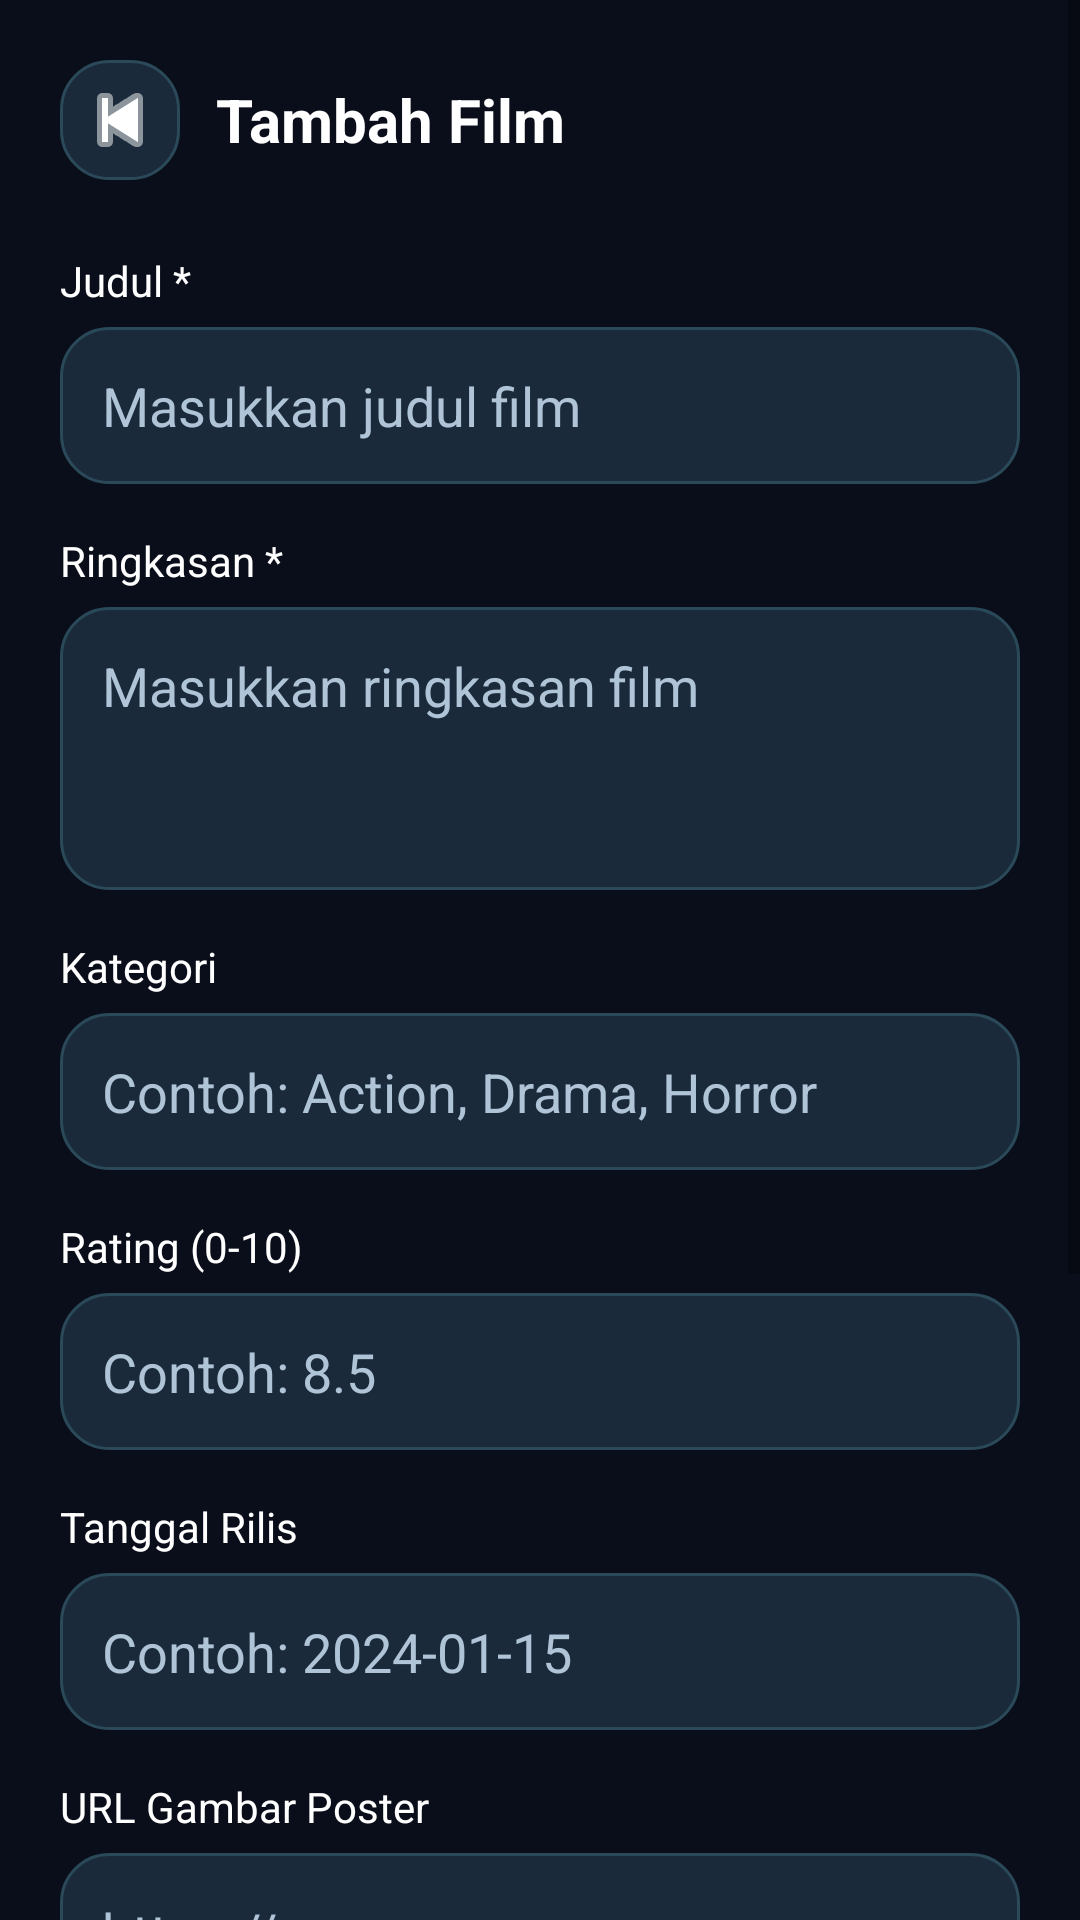

Point at icon controls on the screen. Image size 1080 x 1920, points as point (x, y).
previous: point (120, 120)
